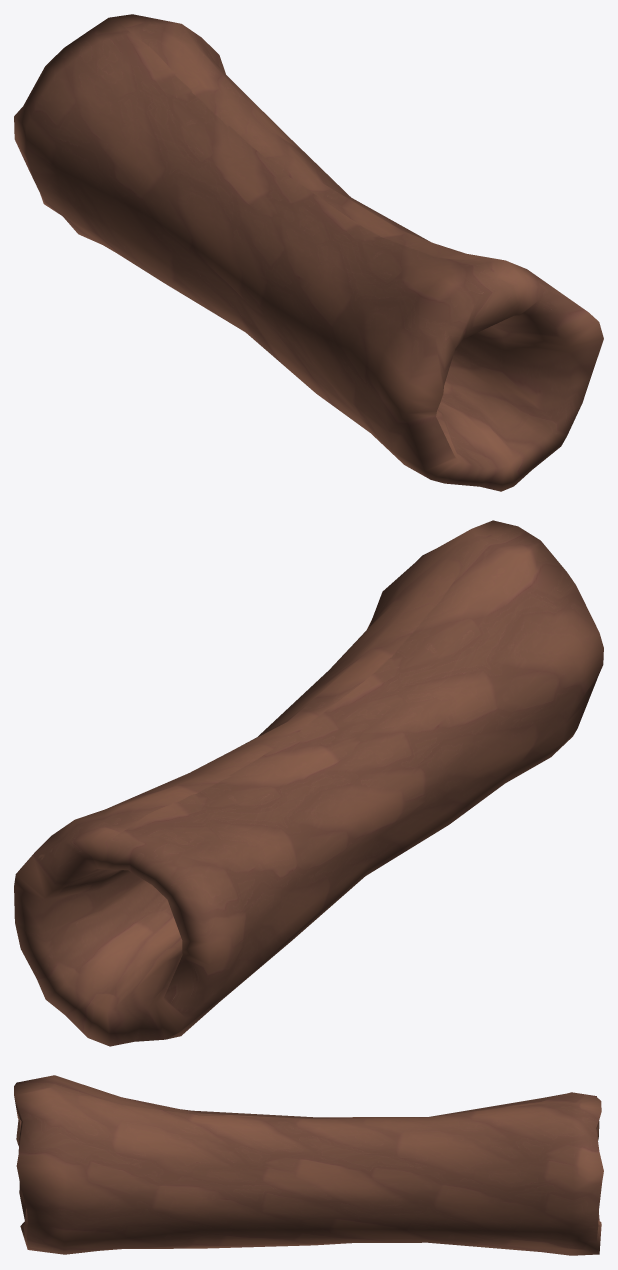
File: treee_trunk_LP.fbx
The picture shows the model from 3 angles, top to bottom: view 1: azimuth 30°, elevation 25°; view 2: azimuth 150°, elevation 25°; view 3: azimuth 270°, elevation 25°; orthographic projection. The views are drawn at different scales.
Parts seen in each view (by area): view 1: TreeTrunk; view 2: TreeTrunk; view 3: TreeTrunk.
Part boxes in pixels (left/top/right/bottom): TreeTrunk: left=14, top=14, right=603, bottom=491; TreeTrunk: left=14, top=520, right=603, bottom=1046; TreeTrunk: left=14, top=1075, right=603, bottom=1255.
Size of the model in its own units: 81.33 by 85.52 by 271.
Materials: 1 (1 with a texture image).
